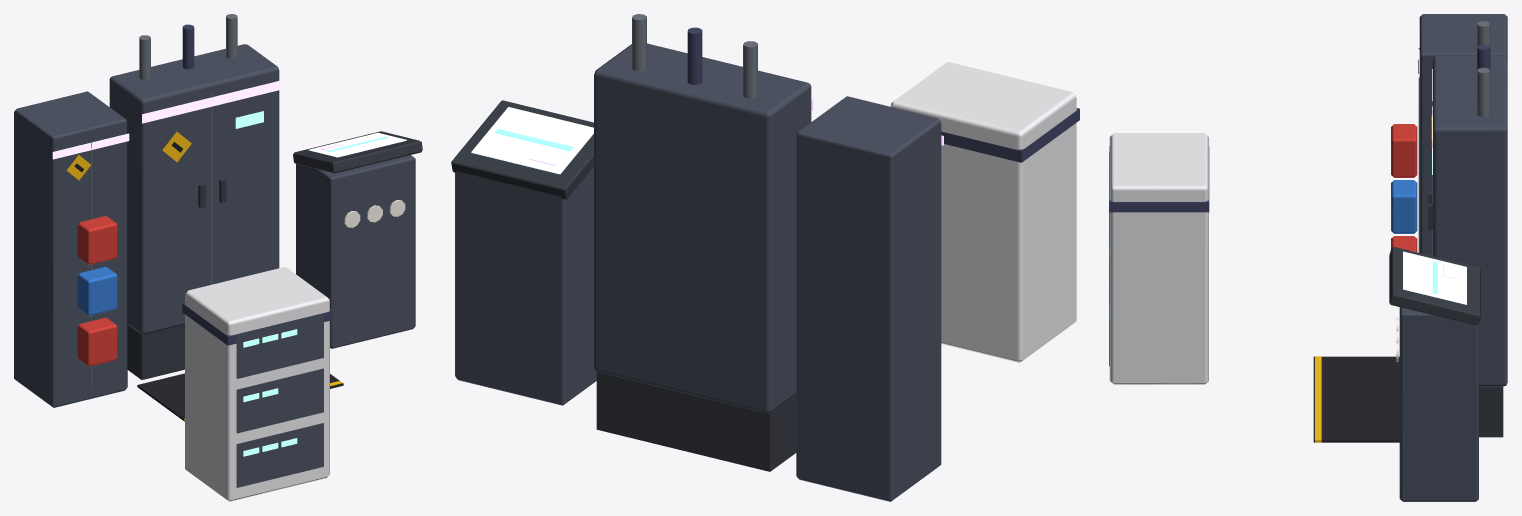
The model's file is station_intake_2.glb.
3 views of the same model, side by side, from view 1: azimuth 30°, elevation 25°; view 2: azimuth 150°, elevation 25°; view 3: azimuth 270°, elevation 25° (orthographic). The views are drawn at different scales.
Parts seen in each view (by area): view 1: station_intake_2; view 2: station_intake_2; view 3: station_intake_2.
Boxes of the visible parts, x1,y1,x2,y2 form: station_intake_2: (14, 14, 422, 501); station_intake_2: (451, 14, 1079, 501); station_intake_2: (1108, 14, 1507, 501).
Bounding box in the file's own units: 2.06 × 1.77 × 1.81.
